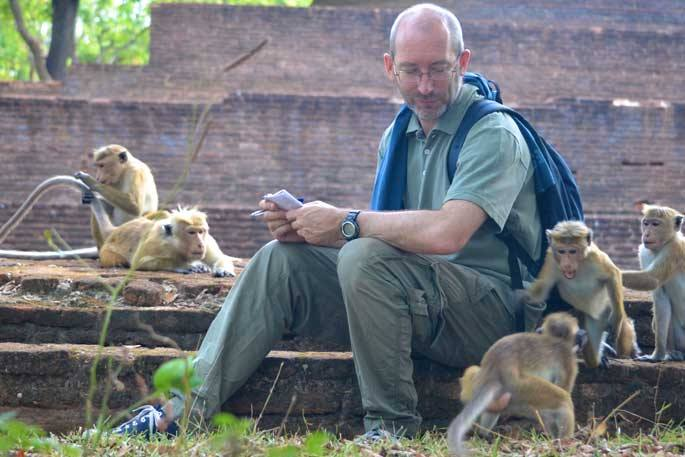Monkey: (98, 198, 235, 281), (529, 215, 633, 313), (628, 197, 685, 343)
